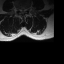CCS_severe_stenosis: (22, 8, 23, 15)
LFS_normal: (25, 7, 27, 12)
LLS_stenosis: (23, 8, 25, 14)
RFS_normal: (18, 7, 20, 12)
RLS_normal: (20, 8, 22, 14)
